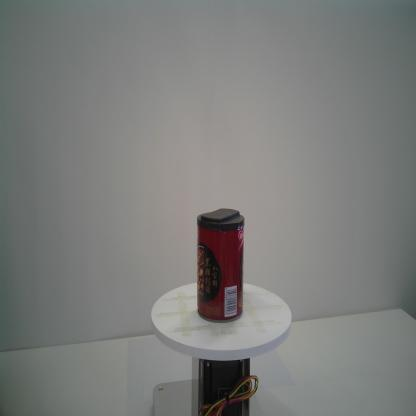Canned Food: (196, 206, 245, 324)
